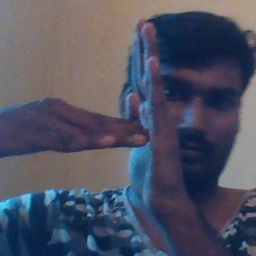Z: (65, 16, 184, 201)
